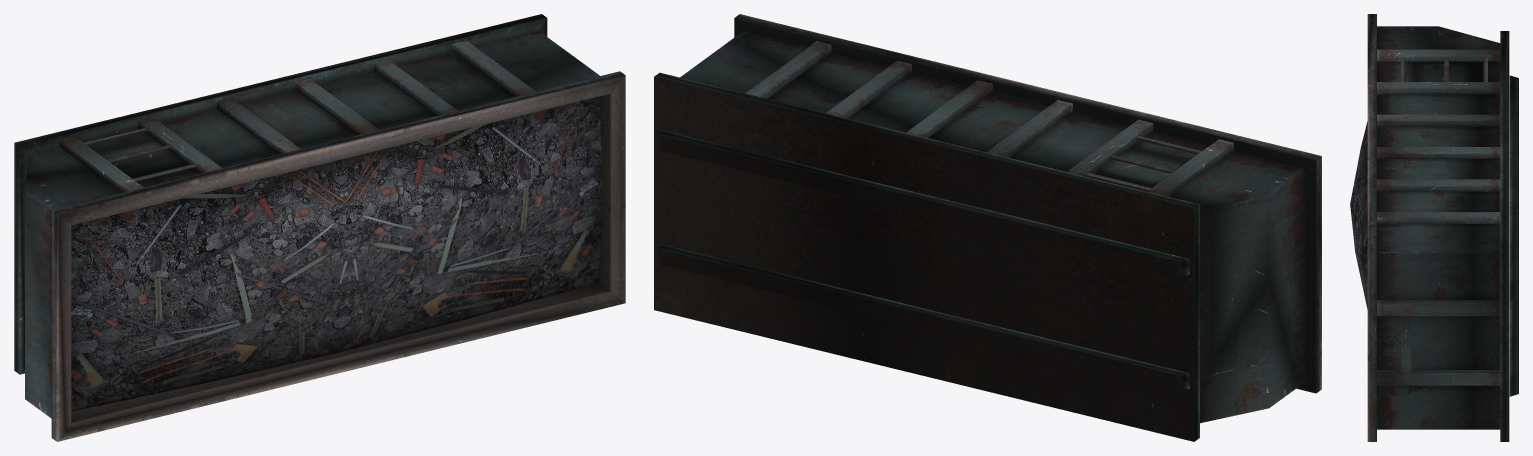
Rendered from dumpsterrolloff.fbx.
3 views of the same model, side by side, from view 1: azimuth 30°, elevation 25°; view 2: azimuth 150°, elevation 25°; view 3: azimuth 270°, elevation 25° (orthographic). The views are drawn at different scales.
Parts seen in each view (by area): view 1: dumpsterrolloff; view 2: dumpsterrolloff; view 3: dumpsterrolloff.
Part boxes in pixels (<box>): dumpsterrolloff: <box>14,14,625,441</box>; dumpsterrolloff: <box>654,14,1321,441</box>; dumpsterrolloff: <box>1350,14,1518,441</box>.
Bounding box in the file's own units: 6 × 2.3 × 1.82.
